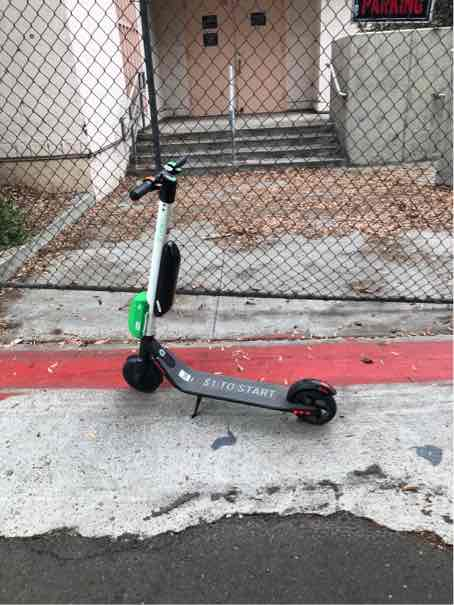scooter: (112, 143, 350, 427)
